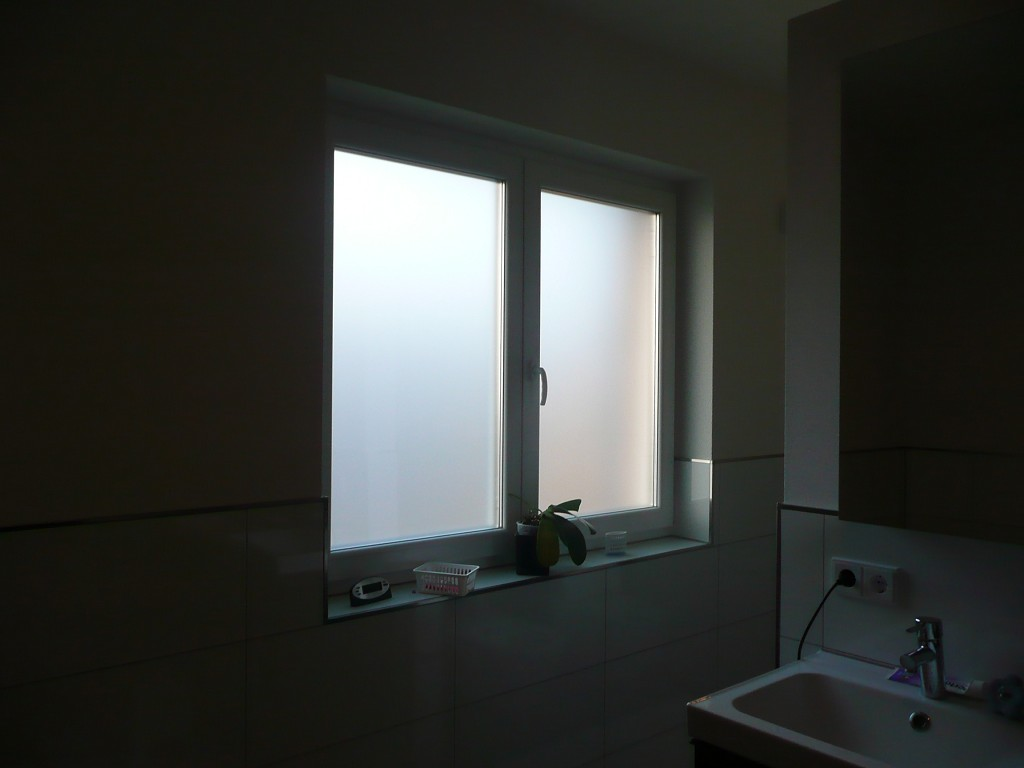windows: (315, 73, 714, 562)
